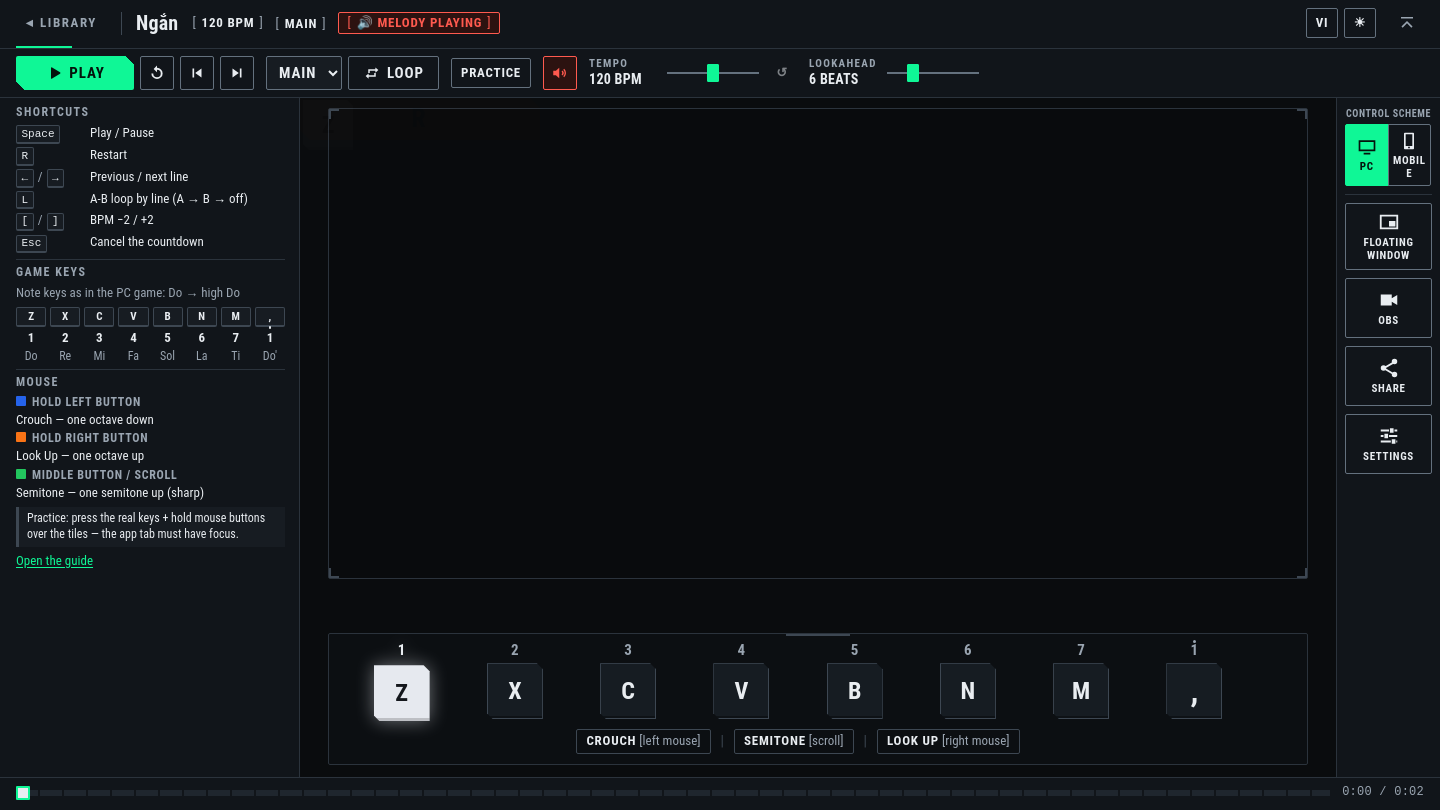
Test case: PlayerView — practice mode › switches to English
The image size is (1440, 810).
Click the button "Practice". click: (491, 73)
box: left=451, top=58, right=531, bottom=88
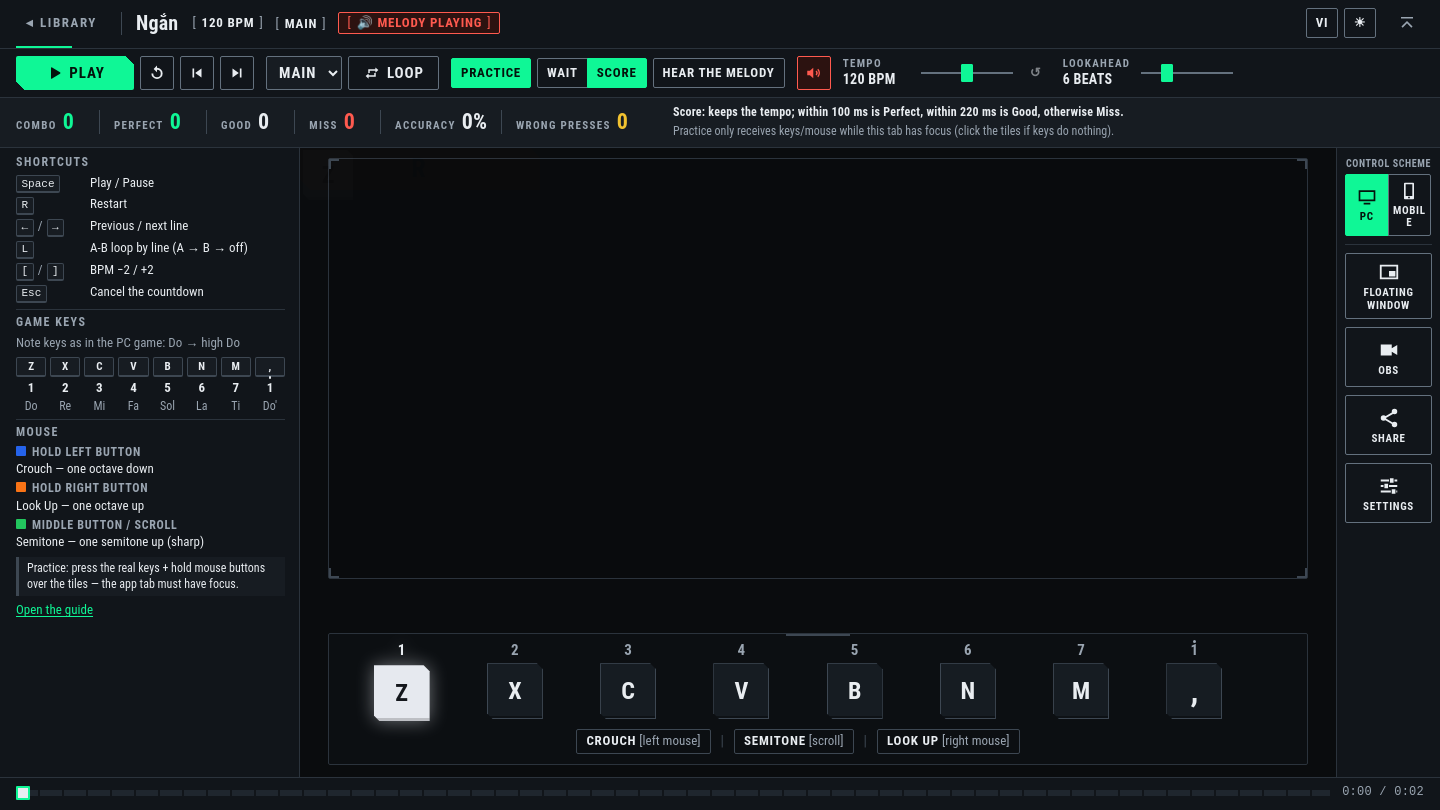
Expected: the element named "Practice score" shows "Practice only receives keys/mouse while this tab has focus", left=673, top=124, right=1114, bottom=138
Expected: the button "Hear the melody" is shown, left=653, top=58, right=785, bottom=88
